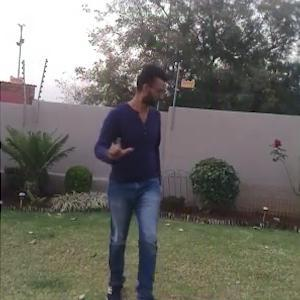land_hand: (107, 132, 135, 162)
